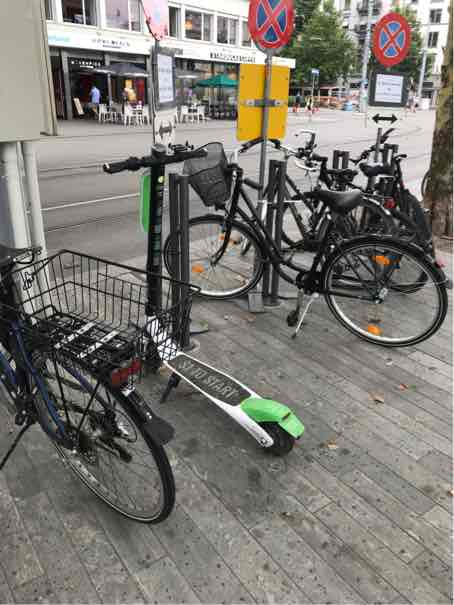scooter: (90, 130, 306, 461)
